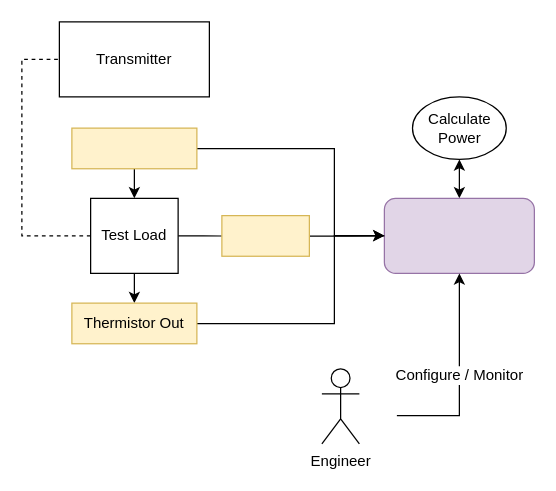
This 556x491 diagram has some shape labels left out. Here are the shapes that lost their labels. From the top down, the centre of each, then its label:
At (134,148): "Thermistor In".
At (265,235): "Flow Monitor".
At (458,235): "Raspberry Pi".
